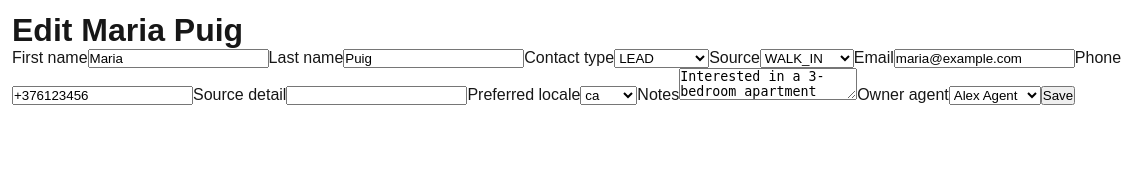
it: Contact edit view › submits only the changed fields and shows a saved confirmation
Expected: the field labelled "First name" holds "Maria", x1=88 y1=49 x2=269 y2=68
Replace the text in the text box labelled "Notes" with "Called back". click: [768, 84]
box: x1=679 y1=68 x2=857 y2=100
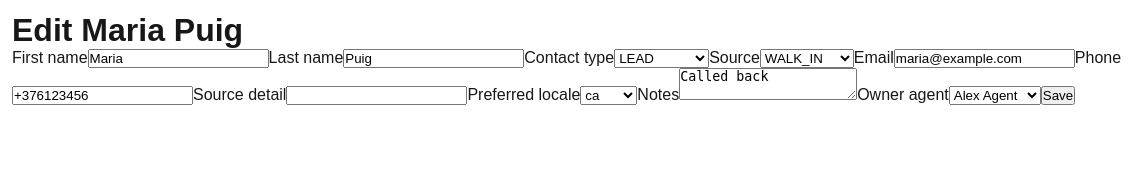
Click the button "Save". click: [1058, 96]
box: x1=1041 y1=86 x2=1075 y2=105
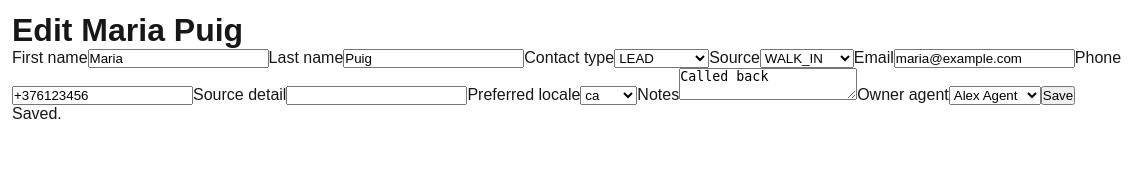
Expected: the text "Saved." is shown, x1=12 y1=105 x2=62 y2=122
